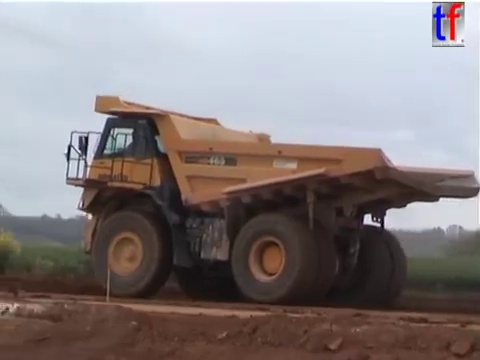truck: (59, 92, 480, 311)
